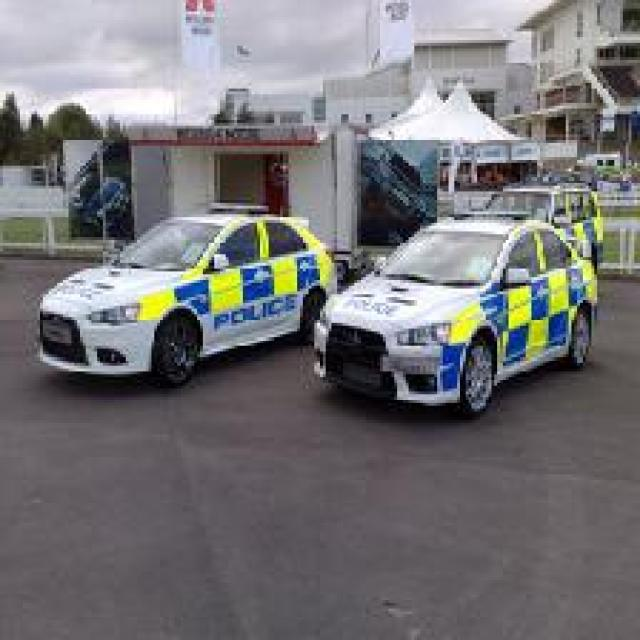Bus: (434, 137, 540, 217)
Police-car: (309, 209, 600, 417), (34, 200, 337, 386)
